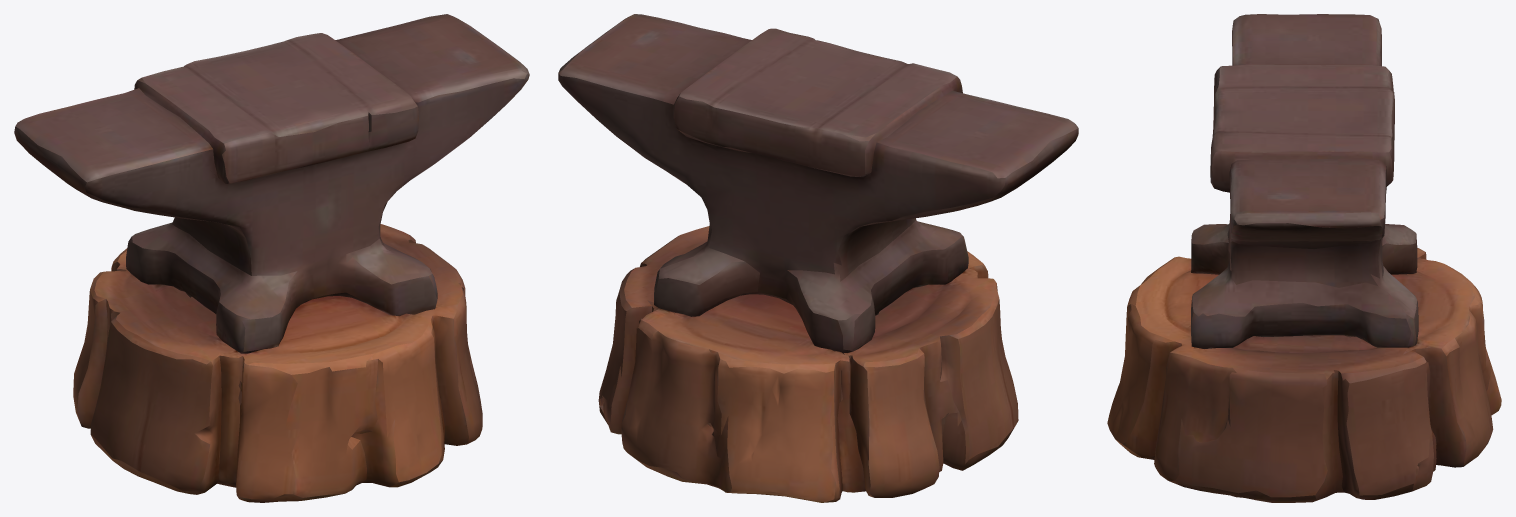
The model's file is lg-forge-anvil.glb.
The picture shows the model from 3 angles, left to right: view 1: azimuth 30°, elevation 25°; view 2: azimuth 150°, elevation 25°; view 3: azimuth 270°, elevation 25°; orthographic projection. The views are drawn at different scales.
Visible parts, largest first — view 1: geometry_0; view 2: geometry_0; view 3: geometry_0.
Part boxes in pixels (bbox=[...]): geometry_0: bbox=[14, 14, 529, 502]; geometry_0: bbox=[558, 14, 1078, 502]; geometry_0: bbox=[1107, 14, 1501, 502].
Size of the model in its own units: 1 by 0.7182 by 0.8074.
1 material, 1 textured.
